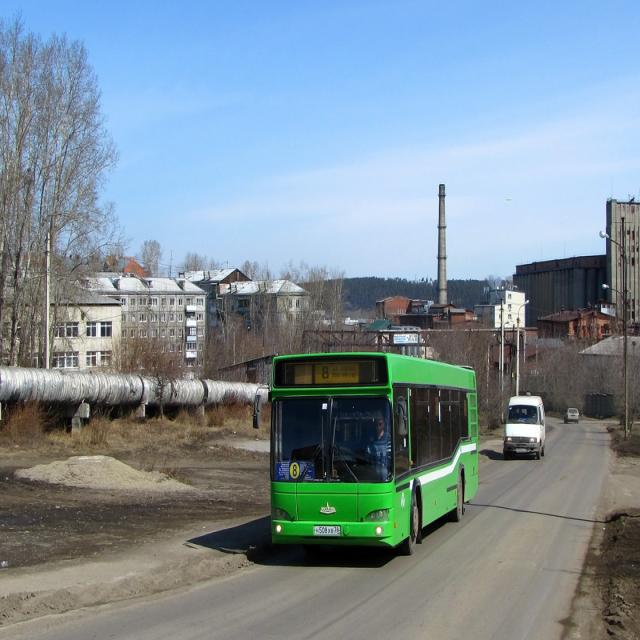number-of-bus: (292, 463, 300, 479), (322, 367, 331, 381)
